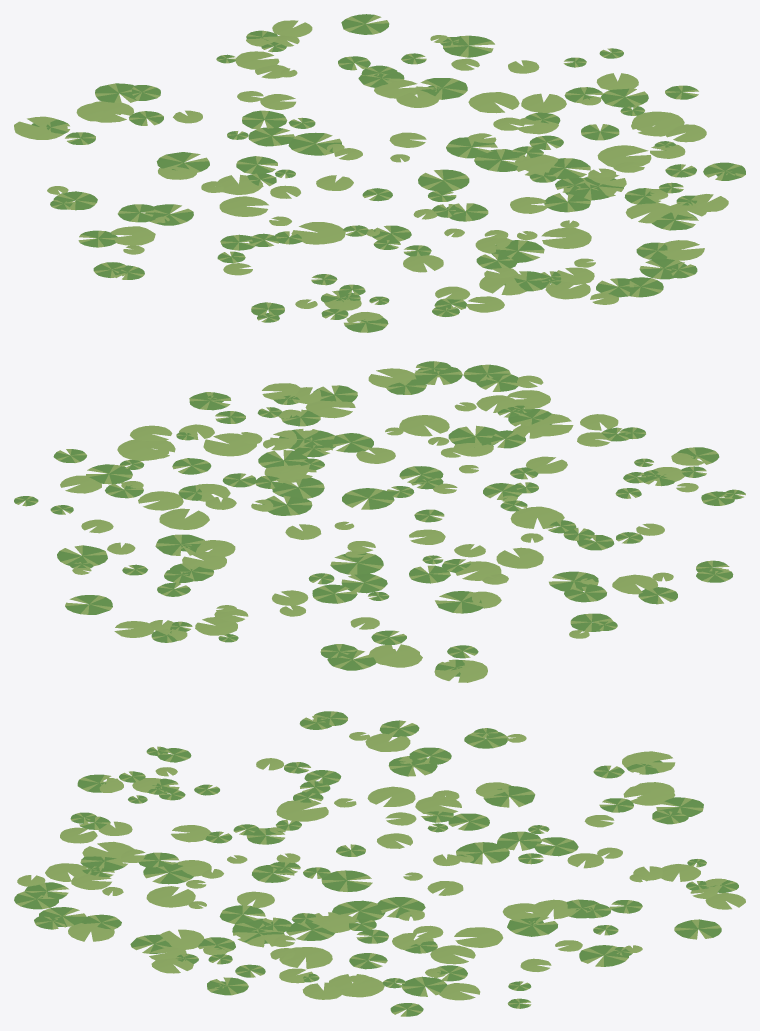
File: Wetland_10_Lenteja_Agua.glb
3 renders of one model, top to bottom at view 1: azimuth 30°, elevation 25°; view 2: azimuth 150°, elevation 25°; view 3: azimuth 270°, elevation 25°, orthographic. The views are drawn at different scales.
Visible parts, largest first — view 1: Wetland_10_Lenteja_Agua; view 2: Wetland_10_Lenteja_Agua; view 3: Wetland_10_Lenteja_Agua.
Boxes of the visible parts, x1,y1,x2,y2 form: Wetland_10_Lenteja_Agua: (14, 14, 745, 332); Wetland_10_Lenteja_Agua: (14, 361, 745, 682); Wetland_10_Lenteja_Agua: (14, 711, 745, 1016).
Bounding box in the file's own units: 2.22 × 0.002 × 2.25.
